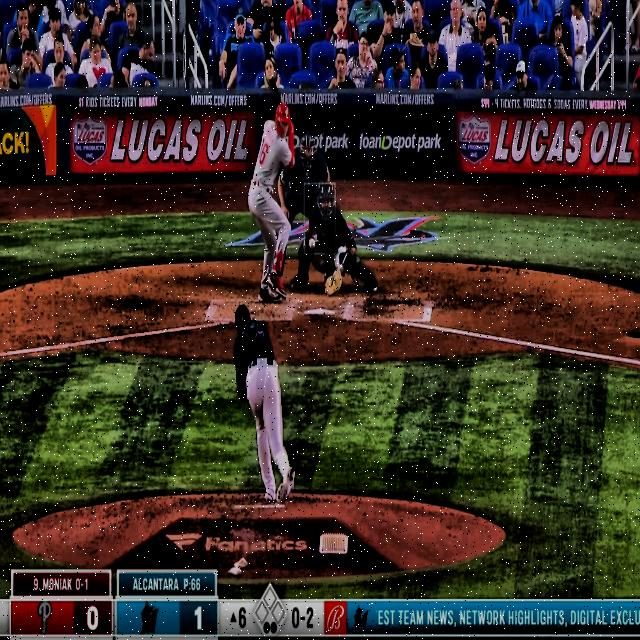baseball: (308, 237, 316, 250)
